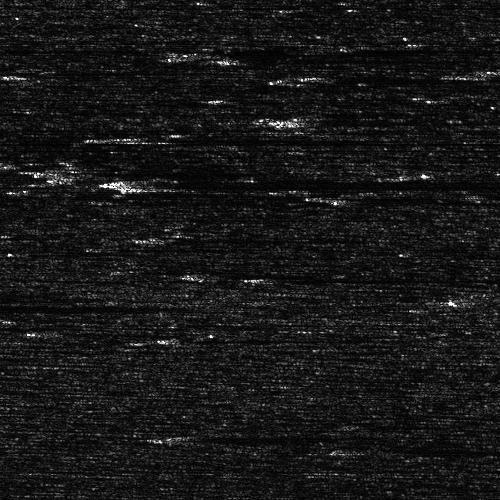object: (105, 176, 210, 191), (159, 52, 242, 65), (338, 446, 421, 455), (164, 331, 227, 342), (278, 73, 341, 84), (68, 132, 161, 139), (137, 434, 200, 443), (299, 192, 362, 201), (126, 233, 179, 242), (218, 275, 271, 282), (0, 67, 21, 72)
shadow: (158, 176, 500, 191), (200, 52, 442, 65), (310, 73, 475, 84), (115, 132, 361, 139), (0, 301, 174, 310), (153, 233, 325, 242), (168, 434, 340, 443), (245, 275, 417, 282), (196, 331, 282, 342), (331, 192, 421, 201), (380, 446, 469, 455), (0, 67, 72, 72)
